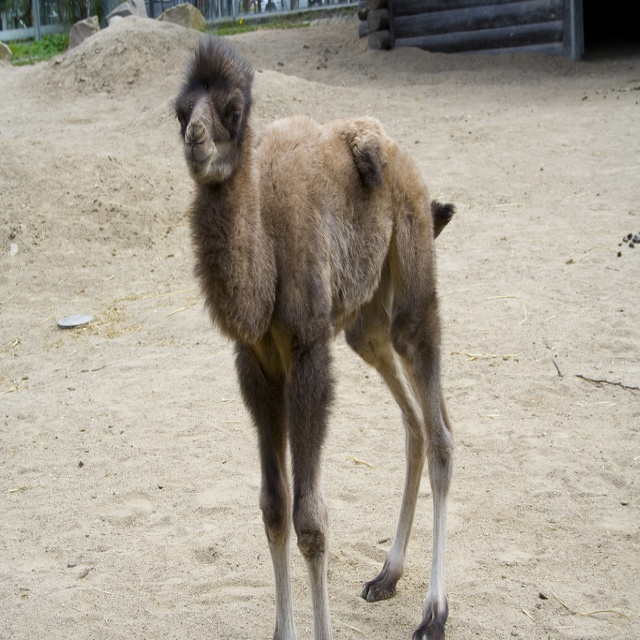Camel: (160, 32, 456, 639)
